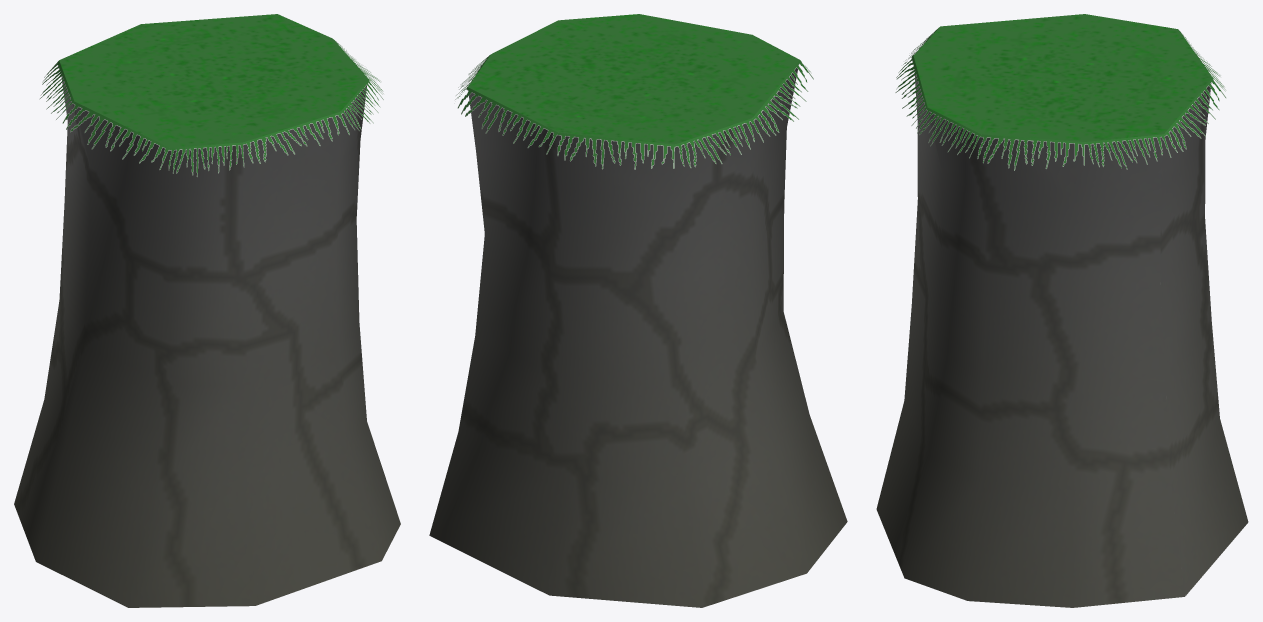
The model's file is Cliff.obj.
3 views of the same model, side by side, from view 1: azimuth 30°, elevation 25°; view 2: azimuth 150°, elevation 25°; view 3: azimuth 270°, elevation 25° (orthographic).
Visible parts, largest first — view 1: Cliff_Circle; view 2: Cliff_Circle; view 3: Cliff_Circle.
Part boxes in pixels (x1,y1,x2,y2): Cliff_Circle: (14,14,400,607); Cliff_Circle: (429,14,847,607); Cliff_Circle: (876,14,1248,607).
Size of the model in its own units: 2.57 by 3.27 by 2.42.
